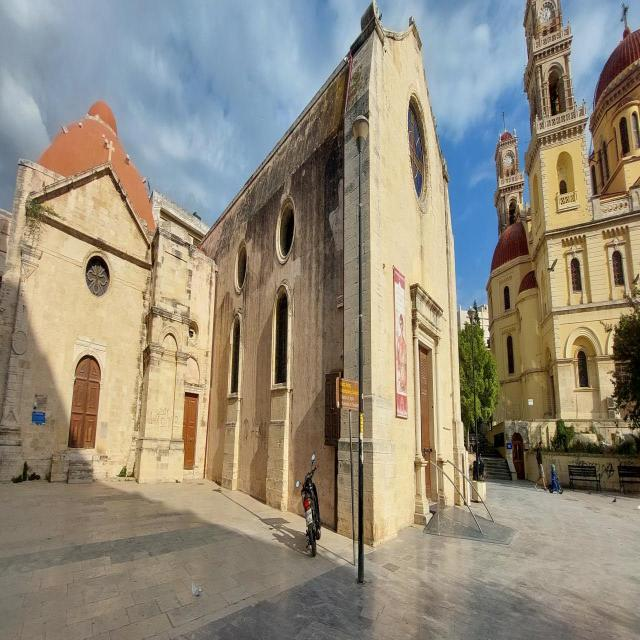Agia Aikaterini: (2, 5, 469, 561)
